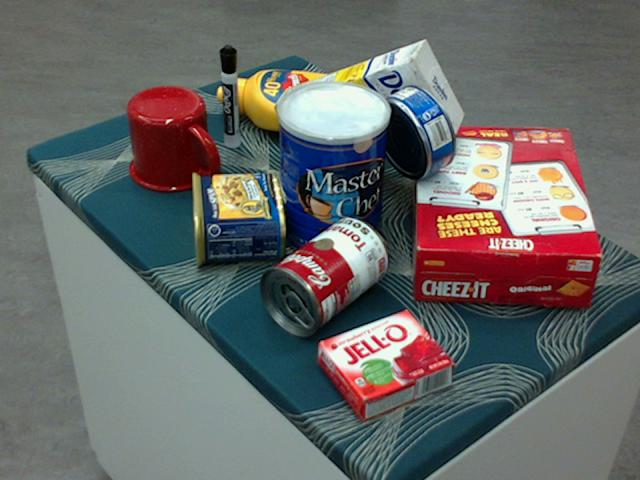cracker_box: (409, 124, 600, 306)
gelatin_box: (317, 309, 454, 419)
large_marker: (218, 44, 241, 148)
master_chef_can: (276, 82, 389, 263)
mug: (127, 85, 216, 192)
mustard_bottle: (215, 68, 383, 139)
potted_meat_can: (188, 171, 285, 266)
sugar_box: (270, 40, 462, 174)
tomato_soup_can: (257, 217, 388, 335)
tuna_fish_can: (373, 82, 456, 177)
